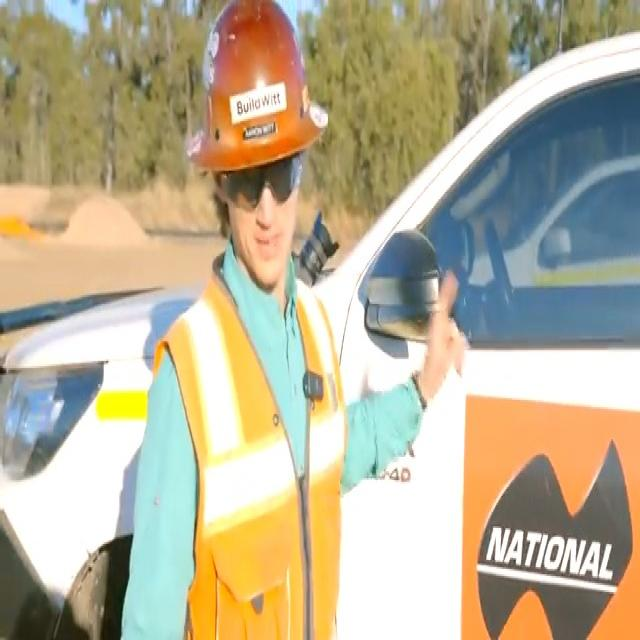safety_helmet: (165, 285, 344, 637)
